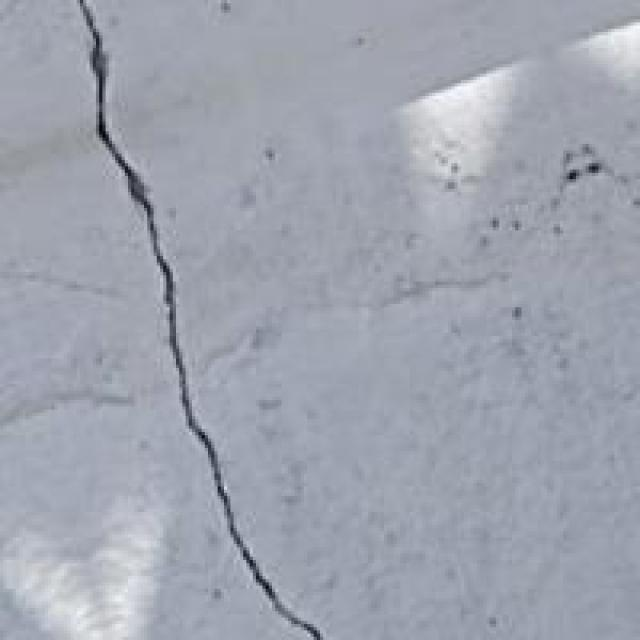crack: (54, 0, 384, 637)
